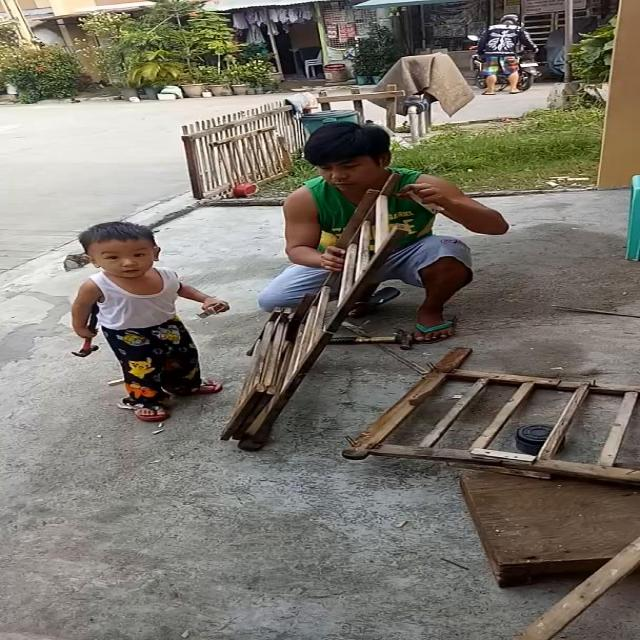hammer: (329, 325, 413, 352), (74, 301, 100, 358)
